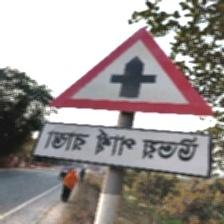Crossroad: (41, 26, 217, 177)
